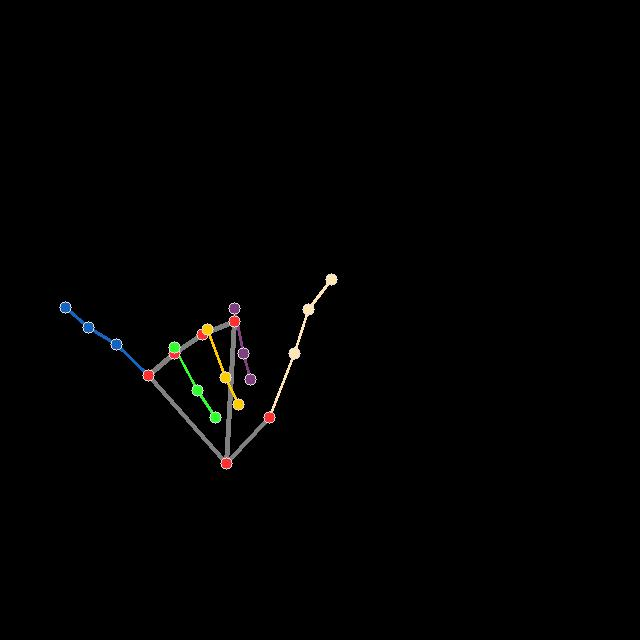skr: (57, 270, 339, 470)
